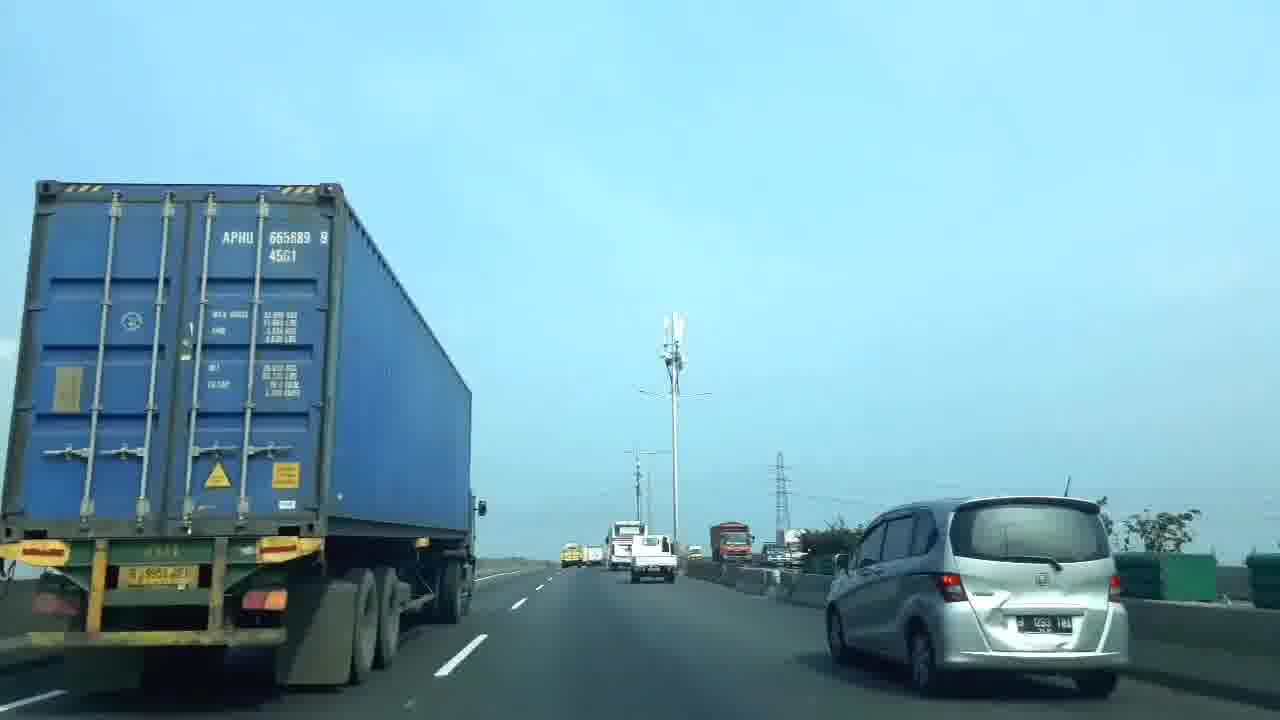plate_positive: (117, 566, 199, 591), (1016, 616, 1073, 635)
